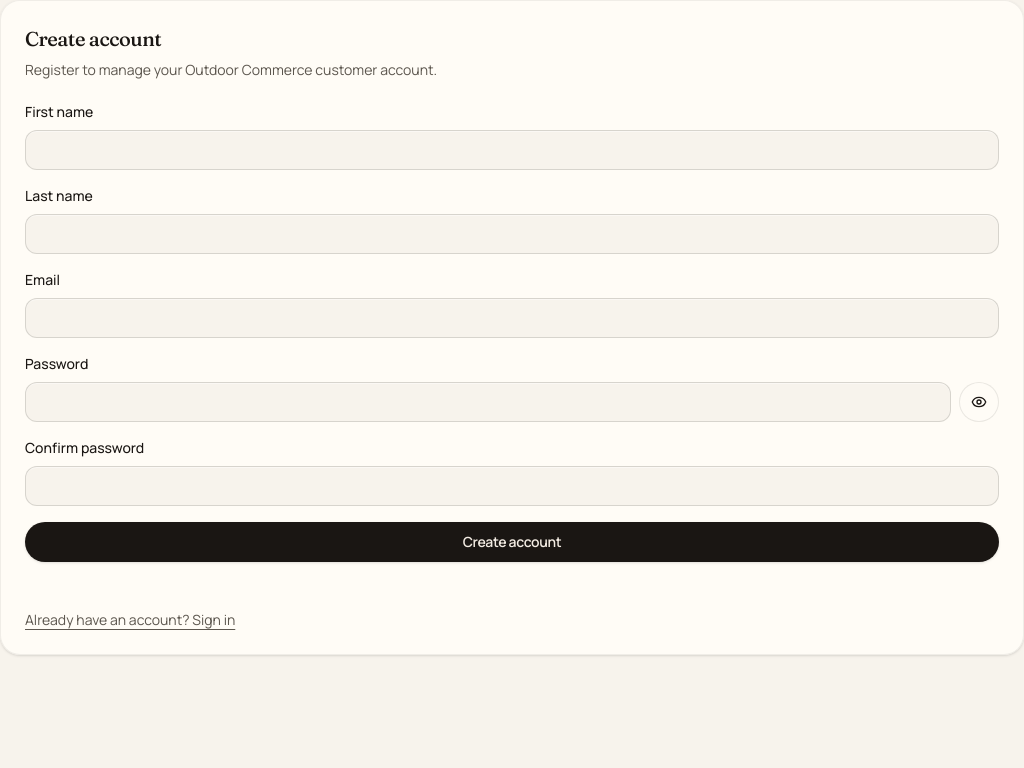
Scenario: RegisterForm › validates password confirmation
The image size is (1024, 768).
Type "ლუკა" into the field labelled "First name" at {"x": 512, "y": 150}, box 25,130 -> 999,170
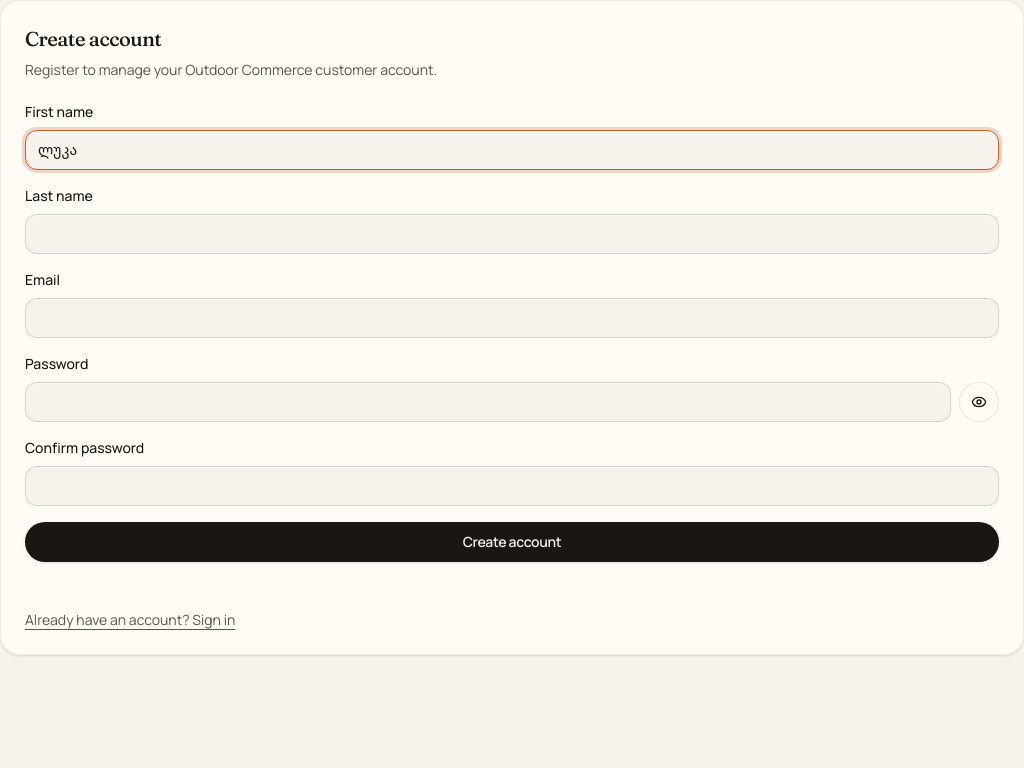
Type "დათუნაშვილი" into the field labelled "Last name" at {"x": 512, "y": 234}, box 25,214 -> 999,254
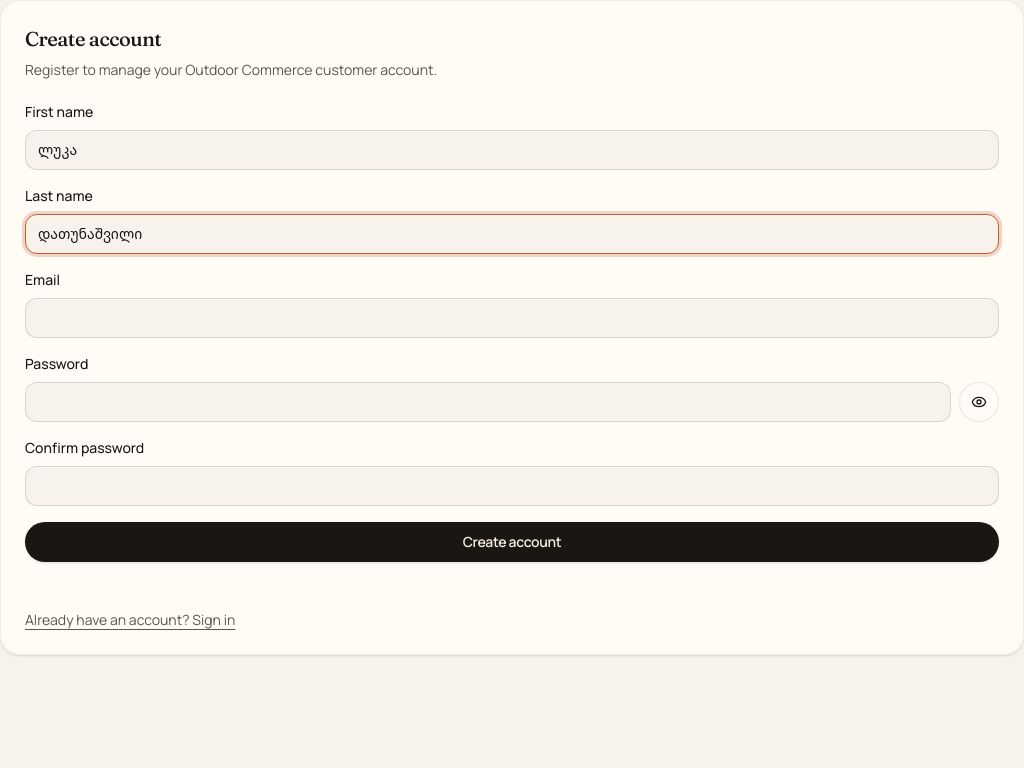
Type "luka@example.test" into the field labelled "Email" at {"x": 512, "y": 318}, box 25,298 -> 999,338
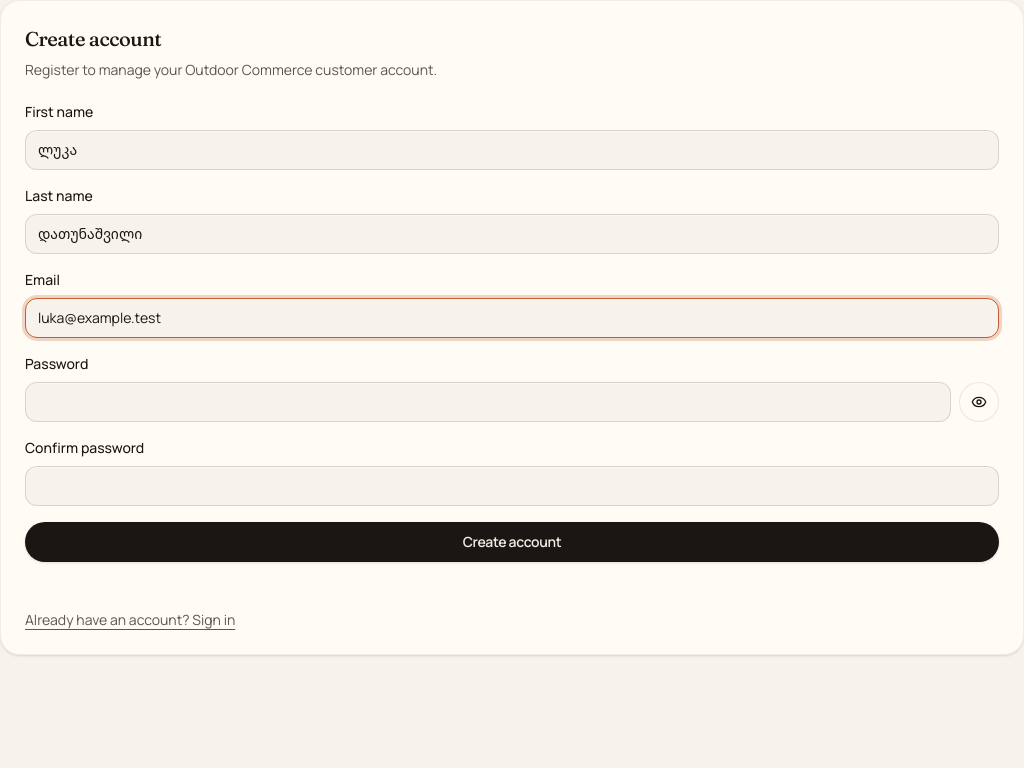
Type "SecurePass12" into the password field labelled "Password" at {"x": 488, "y": 402}, box 25,382 -> 951,422
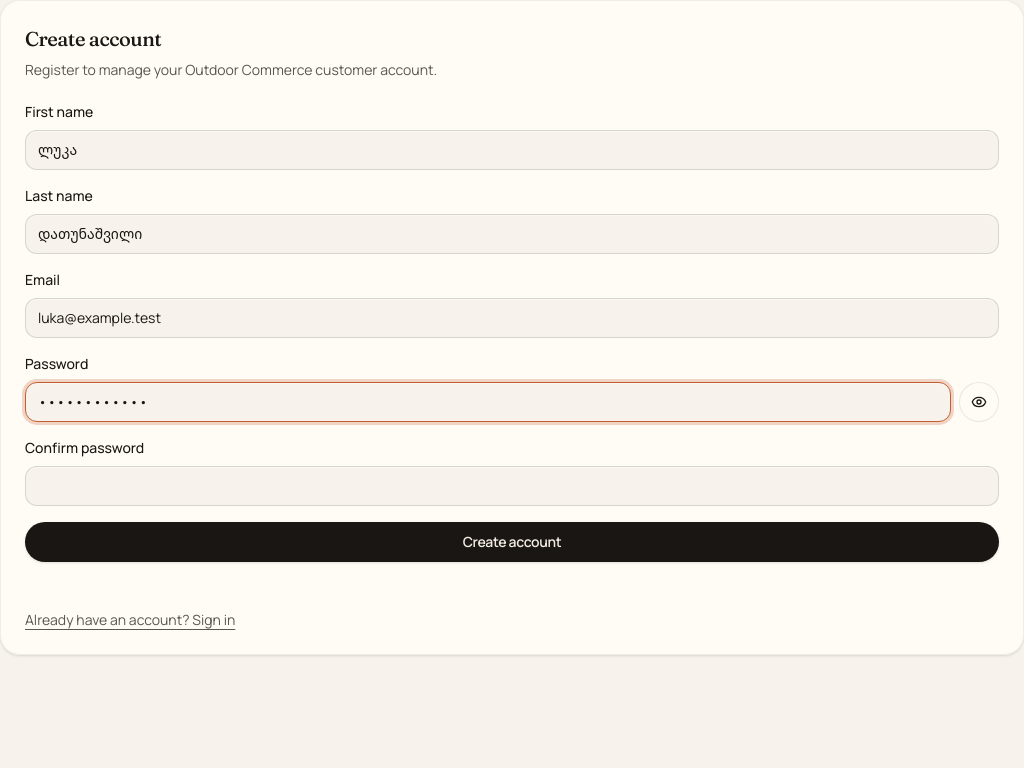
Type "DifferentPass12" into the password field labelled "Confirm password" at {"x": 512, "y": 486}, box 25,466 -> 999,506
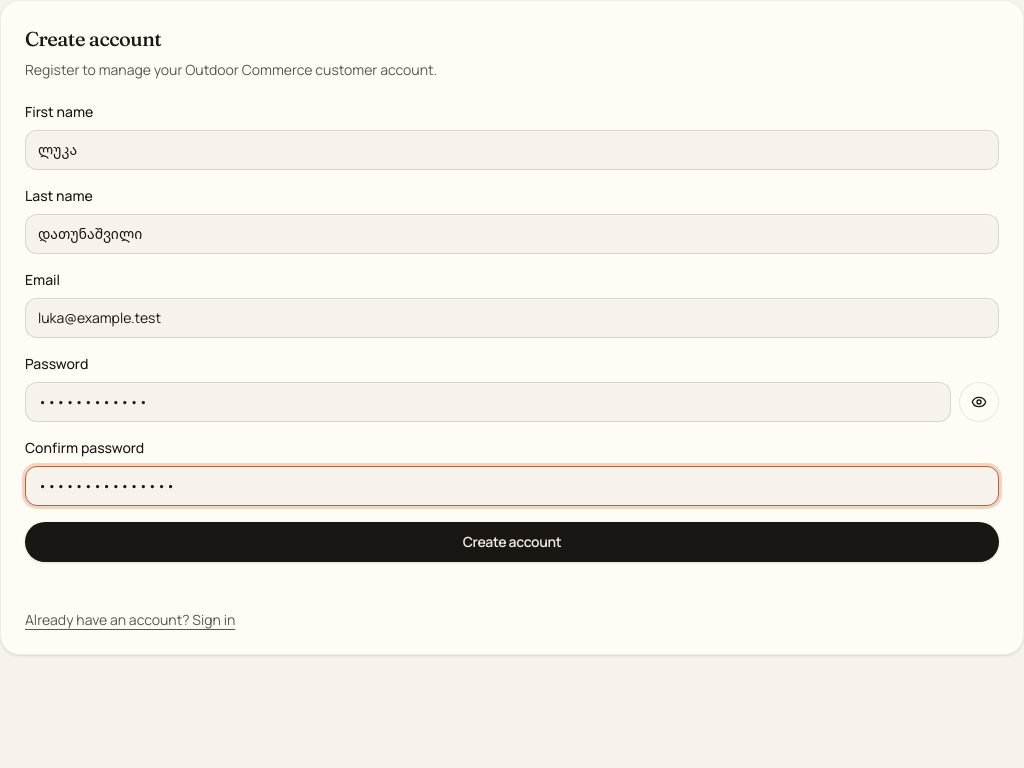
Click the button "Create account" at {"x": 512, "y": 542}, box 25,522 -> 999,562
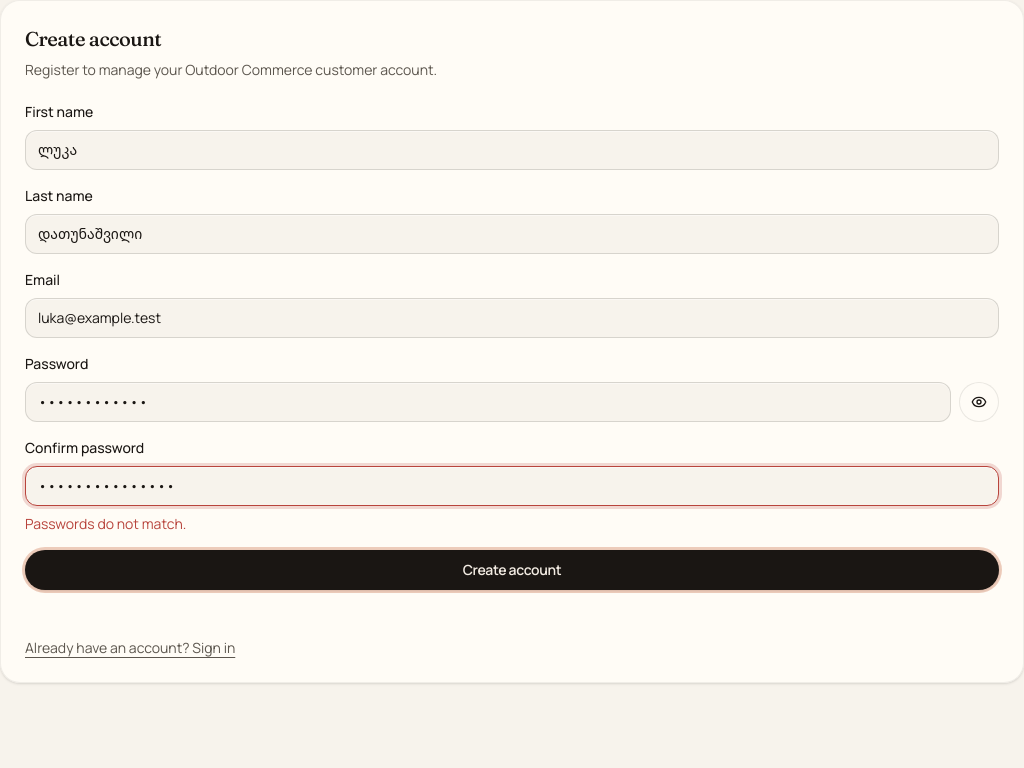
Expected: the text "Passwords do not match." is shown, 25,514 -> 186,533
